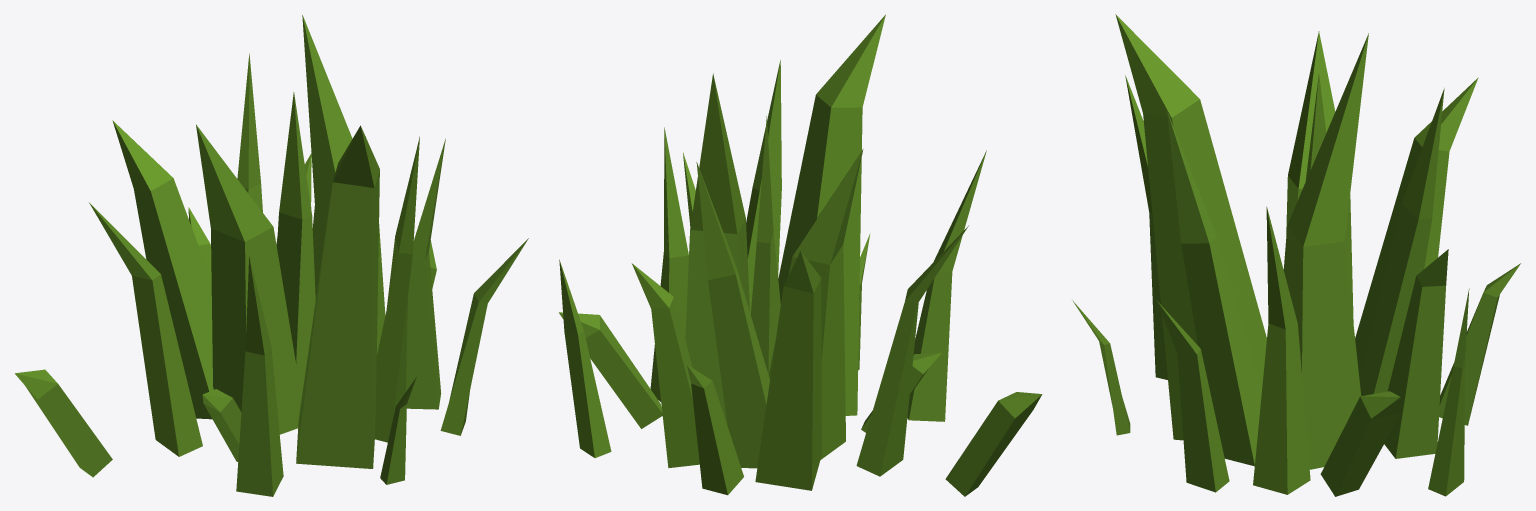
Rendered from grass12.obj.
3 views of the same model, side by side, from view 1: azimuth 30°, elevation 25°; view 2: azimuth 150°, elevation 25°; view 3: azimuth 270°, elevation 25° (orthographic). The views are drawn at different scales.
Parts seen in each view (by area): view 1: Grass7_Cone.044; view 2: Grass7_Cone.044; view 3: Grass7_Cone.044.
Boxes of the visible parts, x1,y1,x2,y2 form: Grass7_Cone.044: [15, 15, 528, 496]; Grass7_Cone.044: [559, 14, 1042, 496]; Grass7_Cone.044: [1072, 14, 1520, 496].
Bounding box in the file's own units: 1.23 × 1 × 0.9774.
